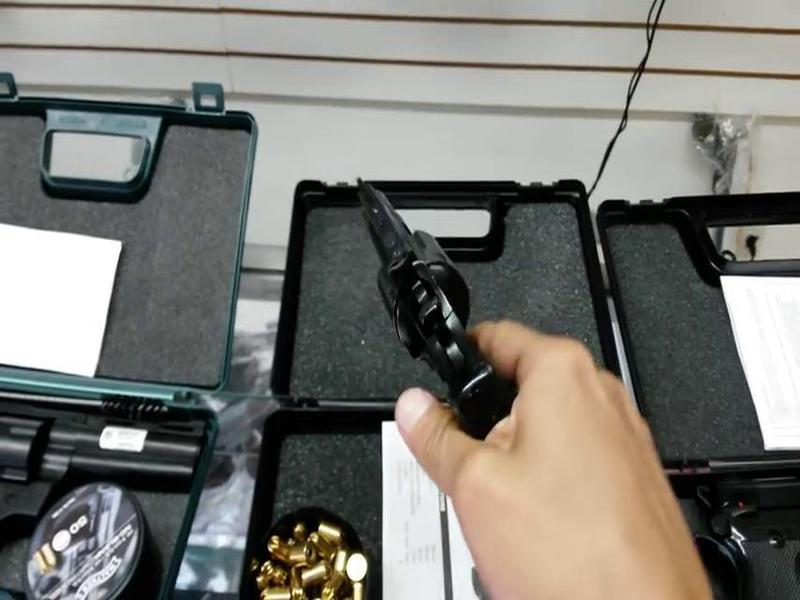Revolver: (331, 169, 590, 473)
